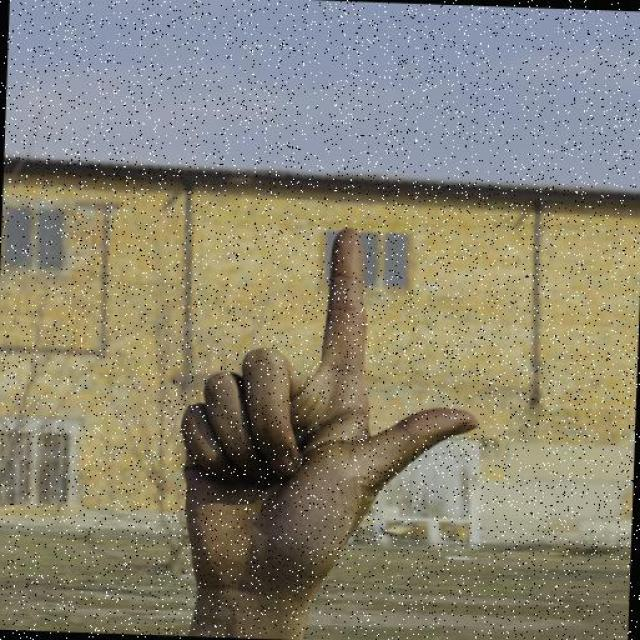L: (139, 197, 521, 640)
